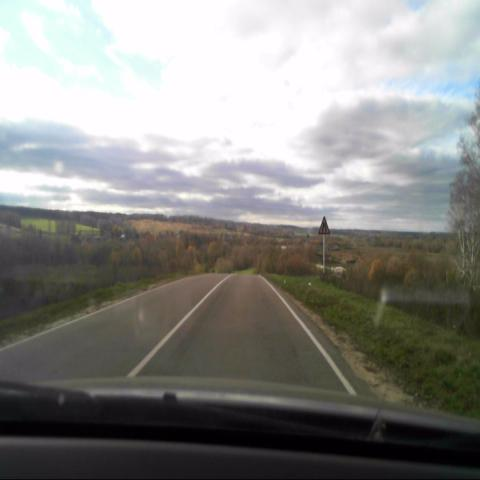1_20: (318, 216, 330, 236)
